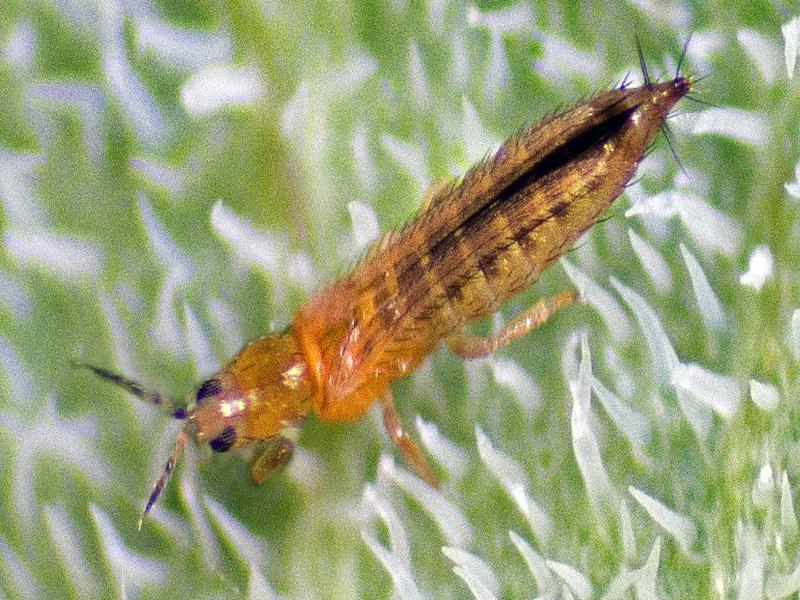Thrips: (151, 52, 711, 480)
